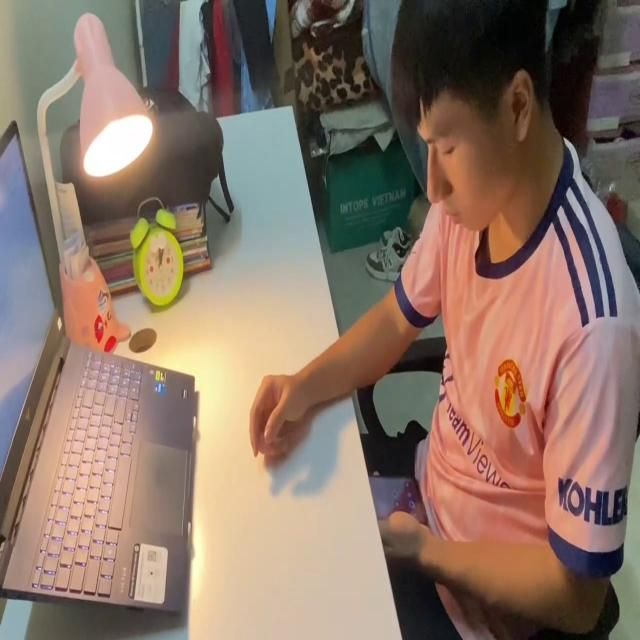laptop: (0, 111, 200, 620)
phone: (364, 464, 432, 538)
student: (242, 0, 640, 640)
